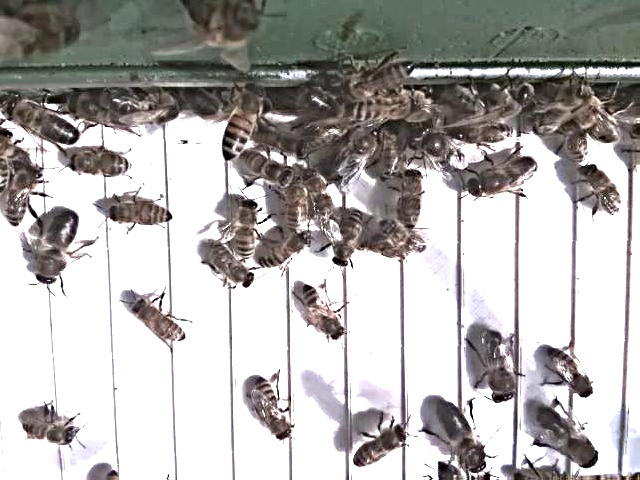Drone: (1, 97, 84, 149), (537, 406, 600, 472), (436, 400, 490, 477), (34, 208, 82, 289), (466, 154, 542, 204), (481, 328, 518, 407)
Worker: (219, 87, 267, 165), (130, 292, 189, 347), (352, 421, 414, 471), (252, 375, 294, 447), (547, 345, 597, 401), (302, 284, 348, 344), (582, 160, 626, 221), (106, 196, 176, 233), (5, 162, 44, 228), (208, 244, 257, 294), (260, 231, 317, 273), (332, 207, 366, 275), (69, 152, 136, 184), (395, 169, 428, 231), (230, 199, 260, 261)
